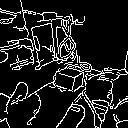cube: (51, 63, 87, 92)
